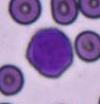L: (26, 26, 74, 78)
